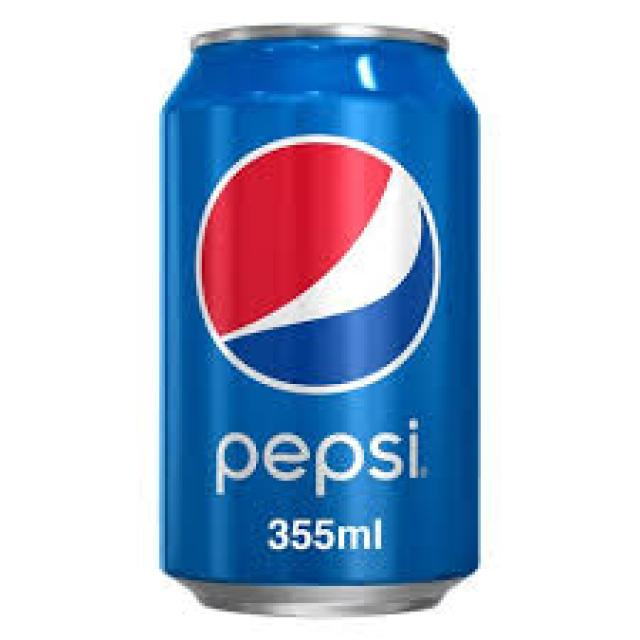Cans: (154, 20, 492, 620)
